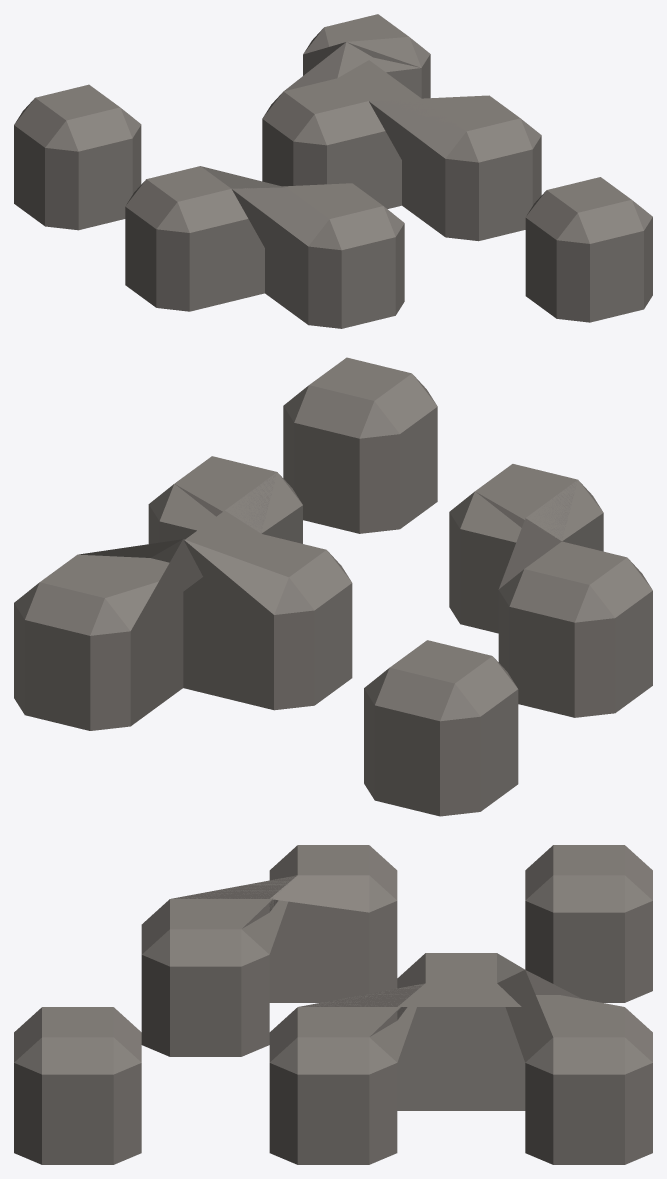
3 renders of one model, top to bottom at view 1: azimuth 30°, elevation 25°; view 2: azimuth 150°, elevation 25°; view 3: azimuth 270°, elevation 25°, orthographic. The views are drawn at different scales.
Visible parts, largest first — view 1: stone_debris_fine_scatter; view 2: stone_debris_fine_scatter; view 3: stone_debris_fine_scatter.
Boxes of the visible parts, left/top/right/bottom form: stone_debris_fine_scatter: left=14, top=14, right=652, bottom=328; stone_debris_fine_scatter: left=14, top=357, right=652, bottom=816; stone_debris_fine_scatter: left=14, top=845, right=652, bottom=1164.
Bounding box in the file's own units: 0.4 × 0.122 × 0.5.
Materials: 1 (1 with a texture image).
